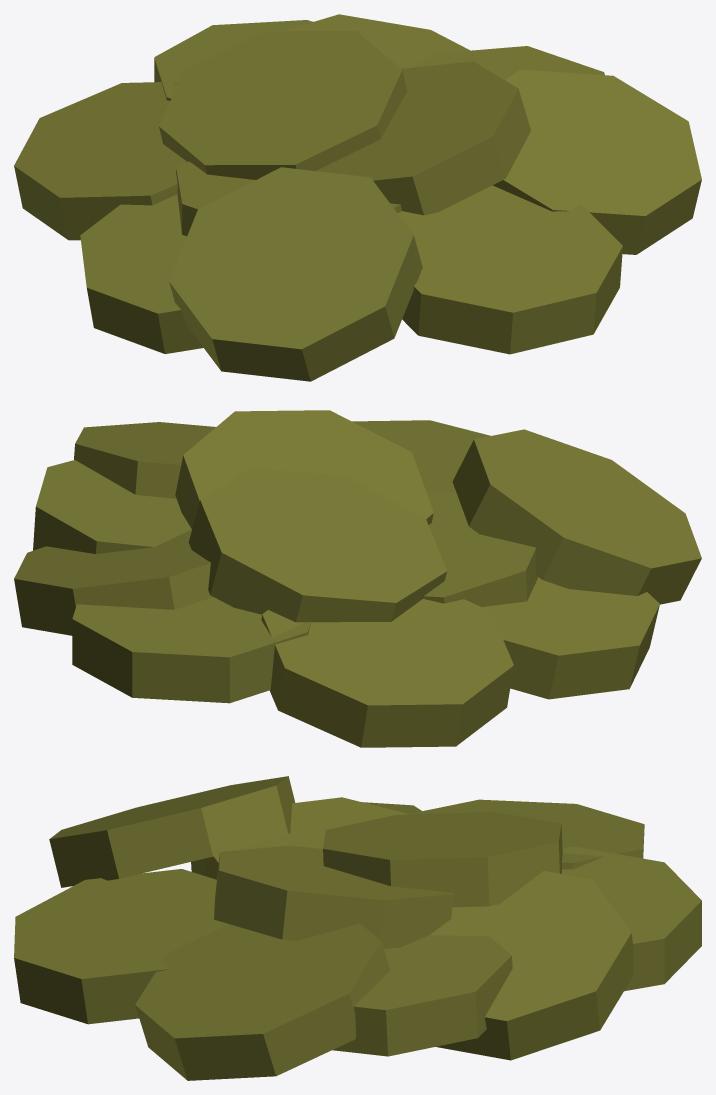
Rendered from SM_GoldCoins.fbx.
3 renders of one model, top to bottom at view 1: azimuth 30°, elevation 25°; view 2: azimuth 150°, elevation 25°; view 3: azimuth 270°, elevation 25°, orthographic. The views are drawn at different scales.
Parts seen in each view (by area): view 1: SM_GoldCoins; view 2: SM_GoldCoins; view 3: SM_GoldCoins.
Part boxes in pixels (bbox=[...]): SM_GoldCoins: bbox=[14, 14, 701, 381]; SM_GoldCoins: bbox=[14, 410, 701, 747]; SM_GoldCoins: bbox=[14, 776, 701, 1080].
Bounding box in the file's own units: 19.95 × 5.26 × 20.37.
